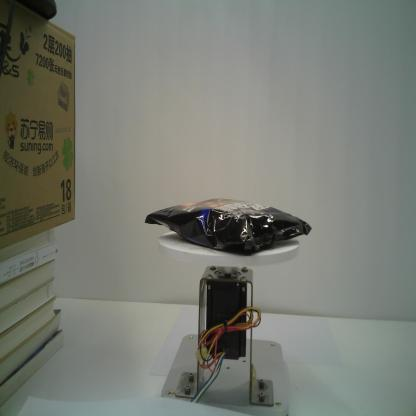Instant Noodles: (144, 196, 314, 255)
